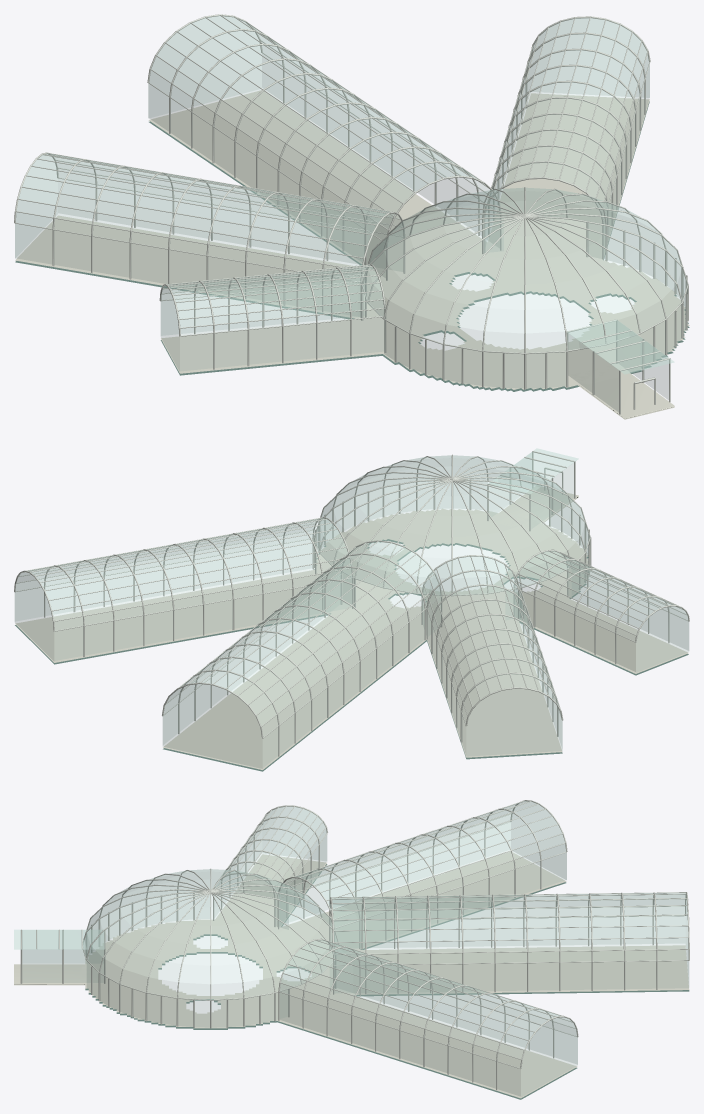
Rendered from greenhouse-shell.glb.
3 renders of one model, top to bottom at view 1: azimuth 30°, elevation 25°; view 2: azimuth 150°, elevation 25°; view 3: azimuth 270°, elevation 25°, orthographic. The views are drawn at different scales.
Visible parts, largest first — view 1: shell-material-3-0, shell-material-1-2, shell-material-2-1, shell-material-2-2, shell-material-1-0, shell-material-1-1, shell-material-2-0, shell-material-2-3, shell-material-0-2, shell-material-0-0, shell-material-0-1; view 2: shell-material-3-0, shell-material-1-2, shell-material-2-2, shell-material-2-1, shell-material-1-1, shell-material-1-0, shell-material-2-0, shell-material-2-3, shell-material-0-2; view 3: shell-material-3-0, shell-material-1-2, shell-material-2-1, shell-material-2-2, shell-material-1-0, shell-material-1-1, shell-material-2-0, shell-material-0-2, shell-material-2-3.
Part boxes in pixels (x1,y1,x2,y2): shell-material-3-0: [15, 16, 687, 411]; shell-material-1-2: [15, 90, 689, 419]; shell-material-2-1: [21, 14, 622, 280]; shell-material-2-2: [361, 16, 688, 389]; shell-material-1-0: [362, 264, 585, 389]; shell-material-1-1: [429, 251, 685, 384]; shell-material-2-0: [14, 152, 405, 369]; shell-material-2-3: [361, 200, 670, 414]; shell-material-0-2: [15, 101, 689, 375]; shell-material-0-0: [381, 283, 579, 391]; shell-material-0-1: [451, 272, 685, 373]; shell-material-3-0: [14, 448, 689, 768]; shell-material-1-2: [15, 486, 688, 769]; shell-material-2-2: [14, 454, 591, 656]; shell-material-2-1: [162, 517, 548, 756]; shell-material-1-1: [317, 508, 536, 620]; shell-material-1-0: [397, 522, 588, 626]; shell-material-2-0: [421, 549, 689, 742]; shell-material-2-3: [383, 451, 585, 596]; shell-material-0-2: [15, 545, 688, 771]; shell-material-3-0: [14, 801, 689, 1096]; shell-material-1-2: [14, 851, 689, 1098]; shell-material-2-1: [278, 800, 689, 1022]; shell-material-2-2: [82, 873, 578, 1090]; shell-material-1-0: [85, 919, 339, 967]; shell-material-1-1: [81, 966, 339, 1015]; shell-material-2-0: [213, 800, 567, 949]; shell-material-0-2: [127, 864, 689, 1099]; shell-material-2-3: [20, 868, 335, 983].
Bounding box in the file's own units: 77.45 × 12.39 × 89.3.
